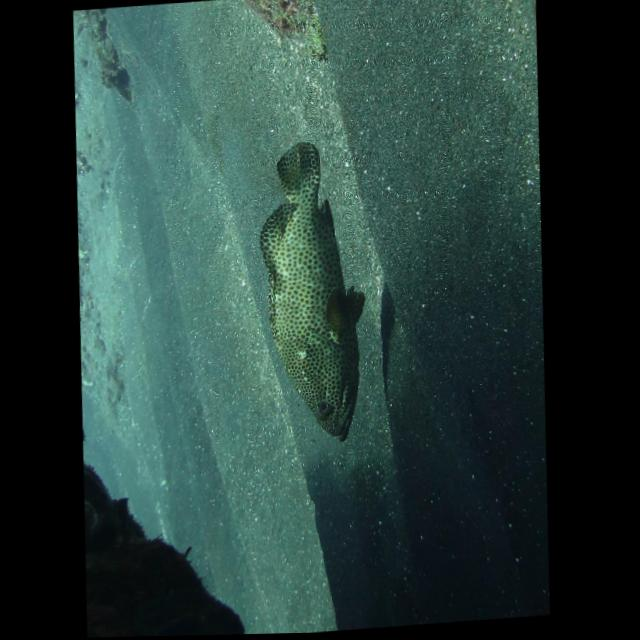Groupers: (246, 140, 378, 450)
